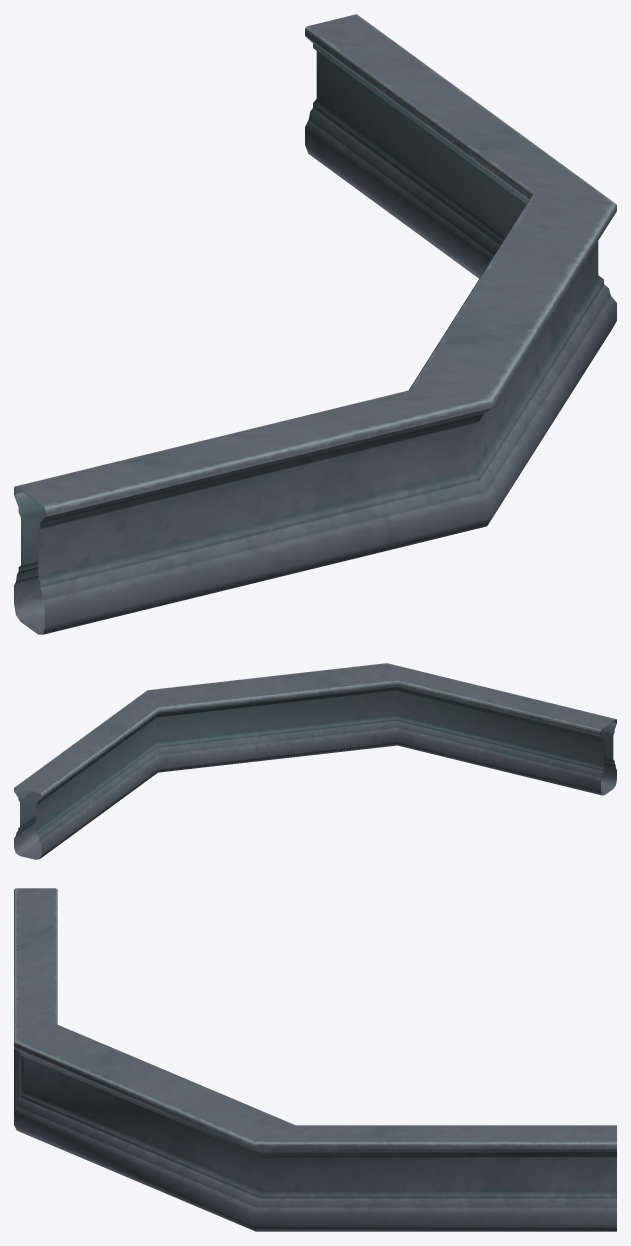
File: Railing_Beveled.fbx
3 renders of one model, top to bottom at view 1: azimuth 30°, elevation 25°; view 2: azimuth 150°, elevation 25°; view 3: azimuth 270°, elevation 25°, orthographic. The views are drawn at different scales.
Parts seen in each view (by area): view 1: Railing_Beveled; view 2: Railing_Beveled; view 3: Railing_Beveled.
Boxes of the visible parts, bbox=[...] form: Railing_Beveled: bbox=[14, 14, 616, 634]; Railing_Beveled: bbox=[14, 663, 616, 859]; Railing_Beveled: bbox=[14, 888, 616, 1231].
Size of the model in its own units: 519 by 87.68 by 519.
1 material, 1 textured.
